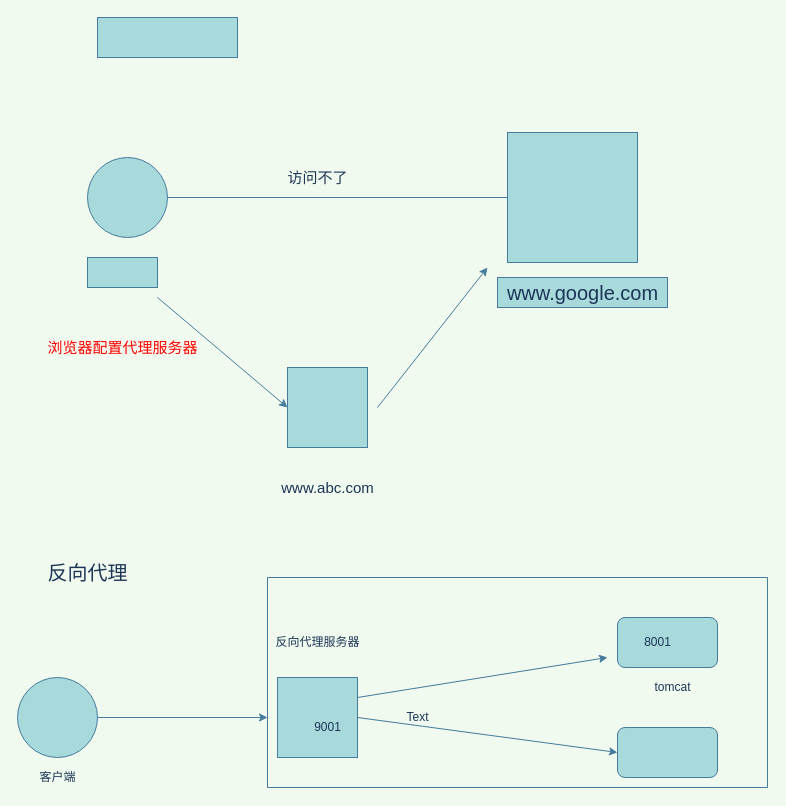
The diagram is 786 pixels wide and 806 high, and some of its shapes have lost their labels. Each missing label, with the box of its shape:
正向代理: (96, 16, 238, 58)
用户A: (86, 256, 158, 288)
